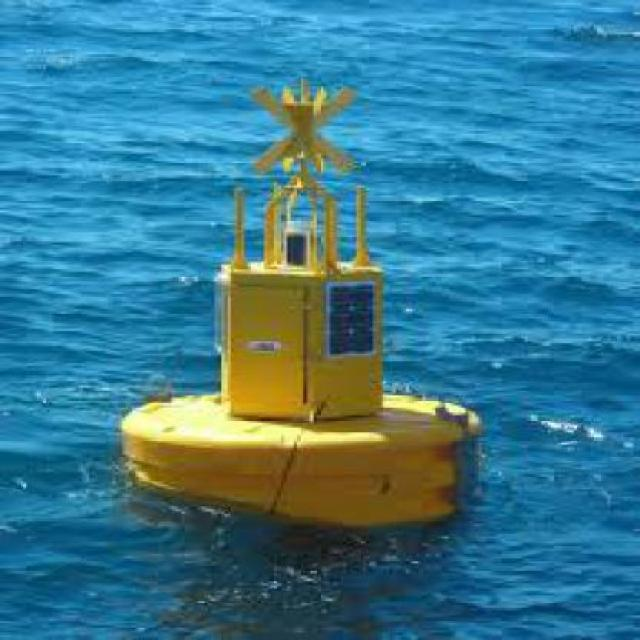buoy: (103, 70, 496, 530)
